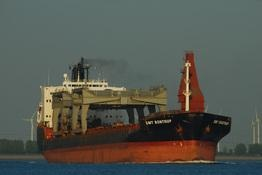Cargoship: (35, 50, 234, 163)
